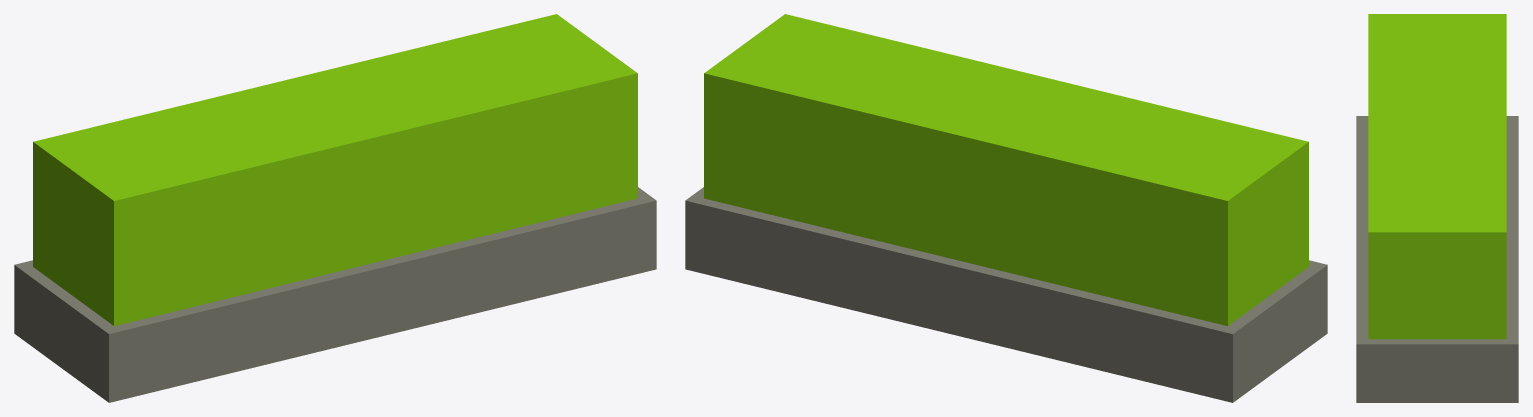
The model's file is adorn plant5.FBX.
3 renders of one model, left to right at view 1: azimuth 30°, elevation 25°; view 2: azimuth 150°, elevation 25°; view 3: azimuth 270°, elevation 25°, orthographic. The views are drawn at different scales.
Parts seen in each view (by area): view 1: adorn plant5; view 2: adorn plant5; view 3: adorn plant5.
Part boxes in pixels (<box>): adorn plant5: <box>14,14,656,402</box>; adorn plant5: <box>685,14,1327,402</box>; adorn plant5: <box>1356,14,1518,402</box>.
Bounding box in the file's own units: 5 × 1.69 × 1.5.
